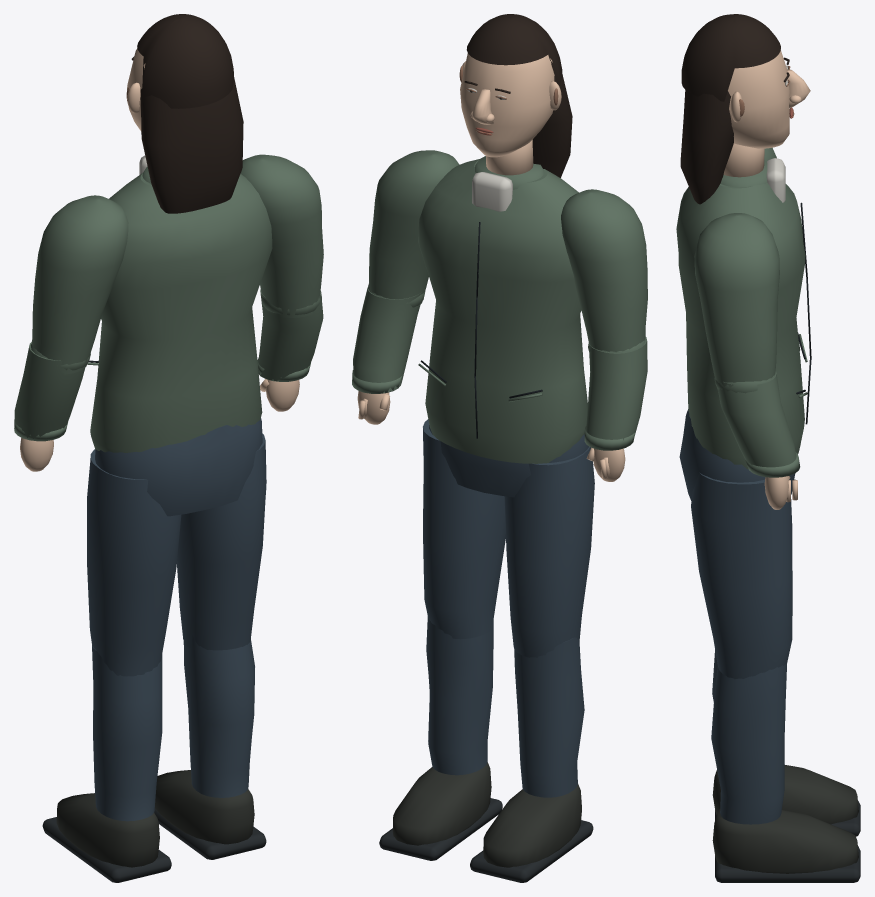
File: pedestrian_4.glb
3 views of the same model, side by side, from view 1: azimuth 30°, elevation 25°; view 2: azimuth 150°, elevation 25°; view 3: azimuth 270°, elevation 25° (orthographic). The views are drawn at different scales.
Parts seen in each view (by area): view 1: torso_Coat fabric, head_Detailed human vertex surfaces, leg_L_Denim trousers, leg_R_Denim trousers, arm_L_Coat fabric, knee_L_Denim trousers, knee_R_Denim trousers, torso_Denim trousers, arm_R_Coat fabric, knee_L_Detailed human vertex surfaces, knee_R_Detailed human vertex surfaces, elbow_L_Coat fabric (+3 smaller); view 2: torso_Coat fabric, leg_L_Denim trousers, head_Detailed human vertex surfaces, leg_R_Denim trousers, arm_L_Coat fabric, knee_L_Denim trousers, knee_R_Denim trousers, arm_R_Coat fabric, knee_R_Detailed human vertex surfaces, knee_L_Detailed human vertex surfaces, elbow_L_Coat fabric, elbow_R_Coat fabric (+4 smaller); view 3: leg_R_Denim trousers, head_Detailed human vertex surfaces, torso_Coat fabric, arm_R_Coat fabric, knee_R_Denim trousers, knee_R_Detailed human vertex surfaces, elbow_R_Coat fabric, knee_L_Detailed human vertex surfaces, torso_Denim trousers, torso_Detailed human vertex surfaces, elbow_R_Detailed human vertex surfaces.
Part boxes in pixels (x1=…): torso_Coat fabric: x1=87, y1=166, x2=272, y2=452; head_Detailed human vertex surfaces: x1=126, y1=14, x2=243, y2=213; leg_L_Denim trousers: x1=87, y1=449, x2=181, y2=676; leg_R_Denim trousers: x1=177, y1=433, x2=266, y2=650; arm_L_Coat fabric: x1=32, y1=195, x2=128, y2=374; knee_L_Denim trousers: x1=92, y1=644, x2=162, y2=821; knee_R_Denim trousers: x1=183, y1=635, x2=254, y2=797; torso_Denim trousers: x1=95, y1=418, x2=262, y2=516; arm_R_Coat fabric: x1=240, y1=154, x2=323, y2=317; knee_L_Detailed human vertex surfaces: x1=42, y1=793, x2=171, y2=882; knee_R_Detailed human vertex surfaces: x1=154, y1=770, x2=266, y2=859; elbow_L_Coat fabric: x1=14, y1=341, x2=90, y2=441; torso_Coat fabric: x1=418, y1=156, x2=587, y2=463; leg_L_Denim trousers: x1=504, y1=446, x2=594, y2=657; head_Detailed human vertex surfaces: x1=459, y1=14, x2=572, y2=177; leg_R_Denim trousers: x1=423, y1=419, x2=505, y2=639; arm_L_Coat fabric: x1=561, y1=189, x2=647, y2=352; knee_L_Denim trousers: x1=514, y1=637, x2=584, y2=797; knee_R_Denim trousers: x1=426, y1=614, x2=493, y2=775; arm_R_Coat fabric: x1=369, y1=150, x2=459, y2=308; knee_R_Detailed human vertex surfaces: x1=379, y1=762, x2=502, y2=860; knee_L_Detailed human vertex surfaces: x1=470, y1=784, x2=593, y2=882; elbow_L_Coat fabric: x1=584, y1=337, x2=647, y2=450; elbow_R_Coat fabric: x1=352, y1=284, x2=425, y2=393; leg_R_Denim trousers: x1=691, y1=472, x2=792, y2=679; head_Detailed human vertex surfaces: x1=680, y1=14, x2=810, y2=204; torso_Coat fabric: x1=676, y1=160, x2=807, y2=469; arm_R_Coat fabric: x1=694, y1=213, x2=779, y2=391; knee_R_Denim trousers: x1=711, y1=663, x2=786, y2=824; knee_R_Detailed human vertex surfaces: x1=712, y1=809, x2=860, y2=882; elbow_R_Coat fabric: x1=714, y1=371, x2=800, y2=477; knee_L_Detailed human vertex surfaces: x1=712, y1=765, x2=860, y2=836; torso_Denim trousers: x1=679, y1=409, x2=795, y2=500; torso_Detailed human vertex surfaces: x1=766, y1=158, x2=811, y2=424; elbow_R_Detailed human vertex surfaces: x1=764, y1=476, x2=797, y2=509.
Size of the model in its own units: 0.6084 by 1.68 by 0.3373.
